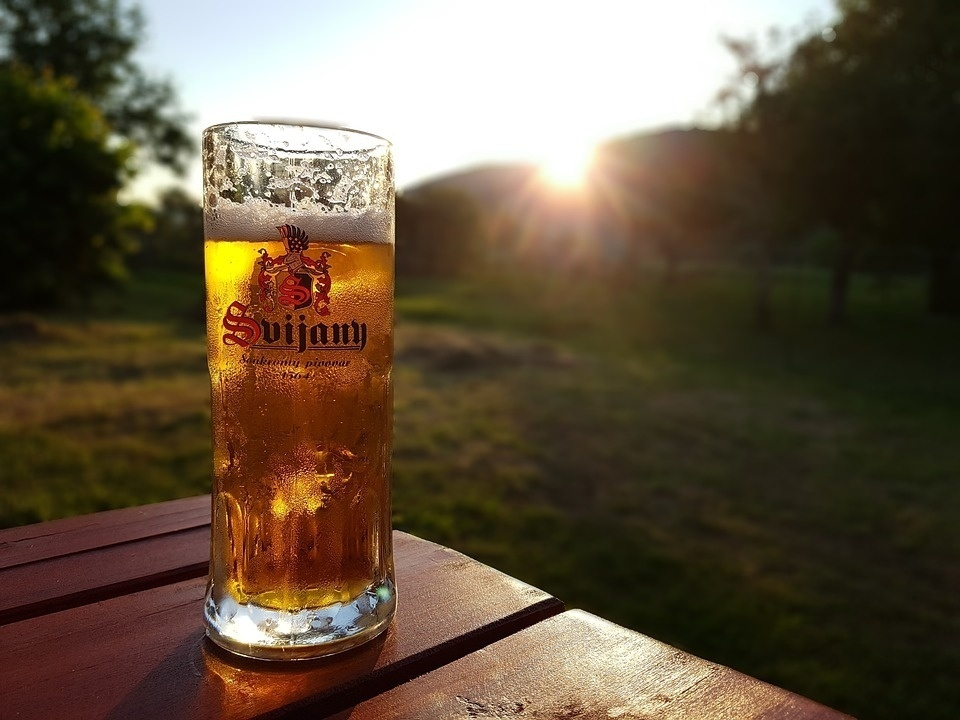whiskey: (189, 120, 419, 641)
